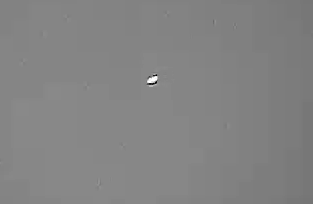Target: (148, 77, 157, 83)
